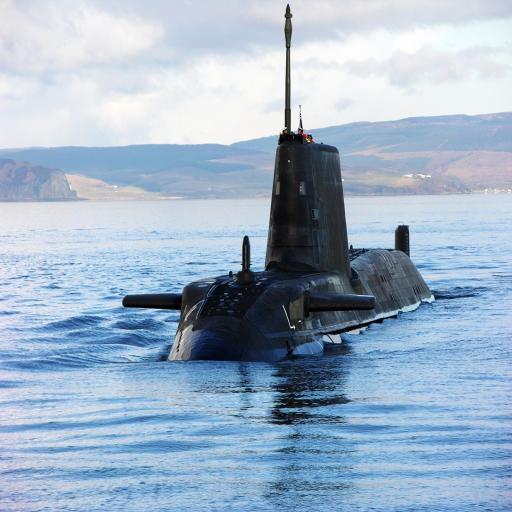submarine: (120, 2, 444, 369)
